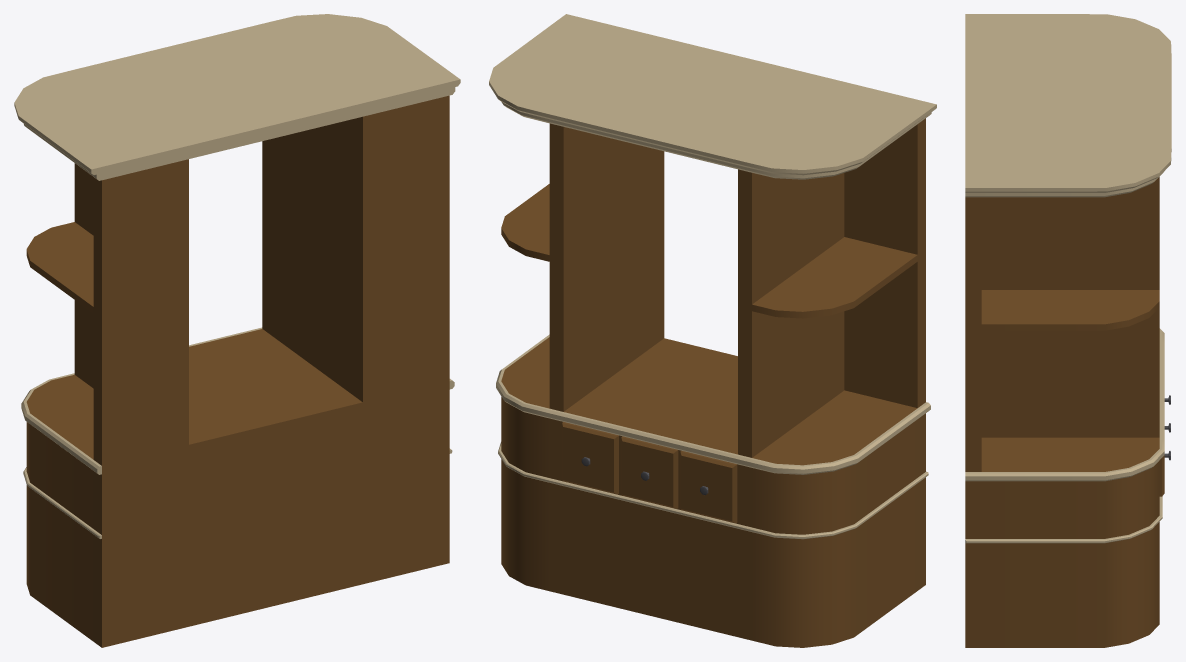
The model's file is Bar_Shelf.fbx.
The picture shows the model from 3 angles, left to right: view 1: azimuth 30°, elevation 25°; view 2: azimuth 150°, elevation 25°; view 3: azimuth 270°, elevation 25°; orthographic projection. The views are drawn at different scales.
Visible parts, largest first — view 1: pCube502; view 2: pCube502; view 3: pCube502.
Part boxes in pixels (x1,y1,x2,y2): pCube502: (14, 14, 460, 647); pCube502: (489, 14, 936, 647); pCube502: (965, 14, 1171, 647).
Bounding box in the file's own units: 2.12 × 2.64 × 1.06.
